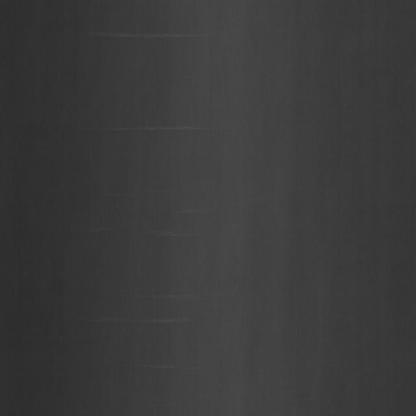waist_folding: (68, 32, 208, 400)
